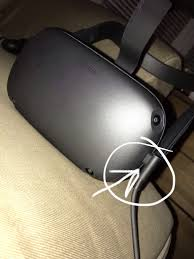oculus: (7, 26, 183, 189)
